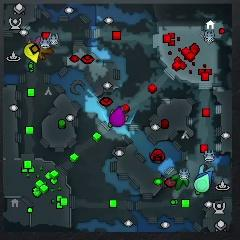p1: (196, 170, 213, 179)
p2: (194, 174, 210, 192)
p3: (109, 107, 126, 128)
p4: (24, 43, 42, 64)
x1: (28, 36, 42, 44)
x3: (198, 165, 216, 174)
x4: (172, 172, 189, 191)
x5: (37, 44, 56, 61)
